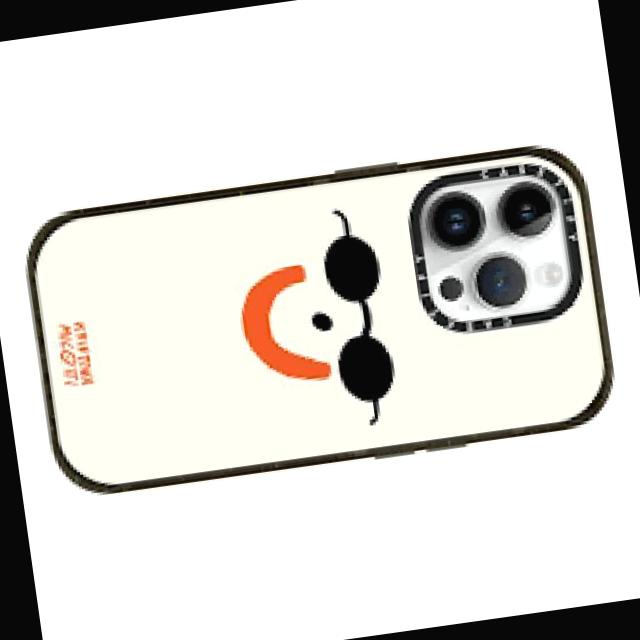lens_back: (419, 184, 493, 256), (492, 174, 562, 247), (467, 248, 534, 314)
phone: (7, 124, 630, 508)
